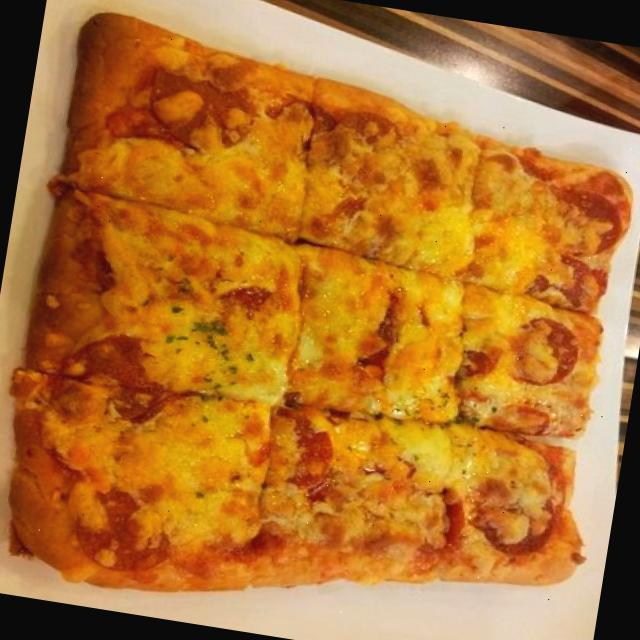pizza: (13, 9, 635, 589)
